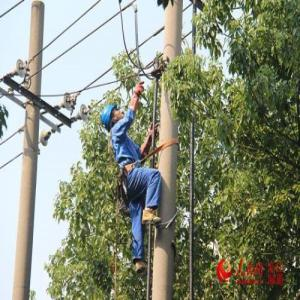blue: (101, 104, 124, 132)
